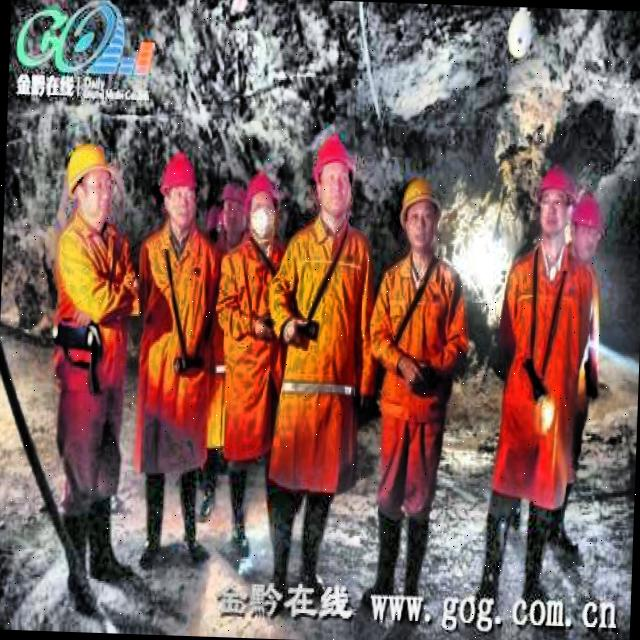helmet: (60, 134, 116, 232), (311, 128, 356, 228), (395, 167, 442, 260), (532, 158, 573, 242), (160, 144, 198, 234), (241, 167, 278, 255), (566, 192, 602, 258), (218, 182, 255, 244)
